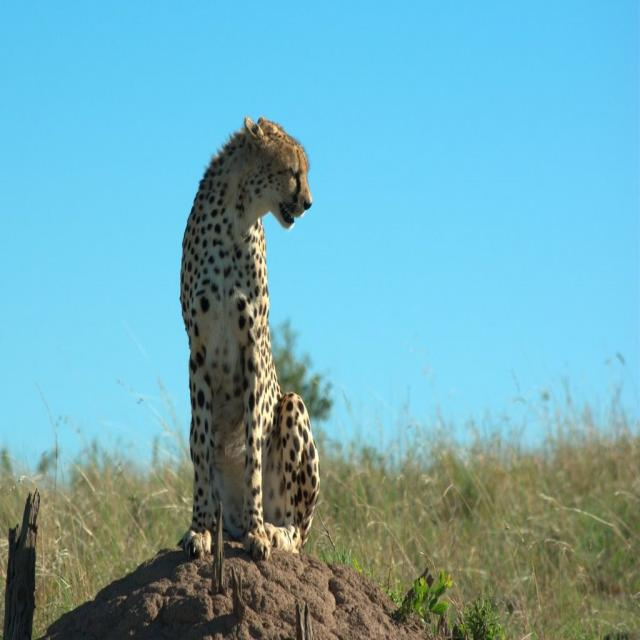Cheetah: (178, 115, 320, 559)
